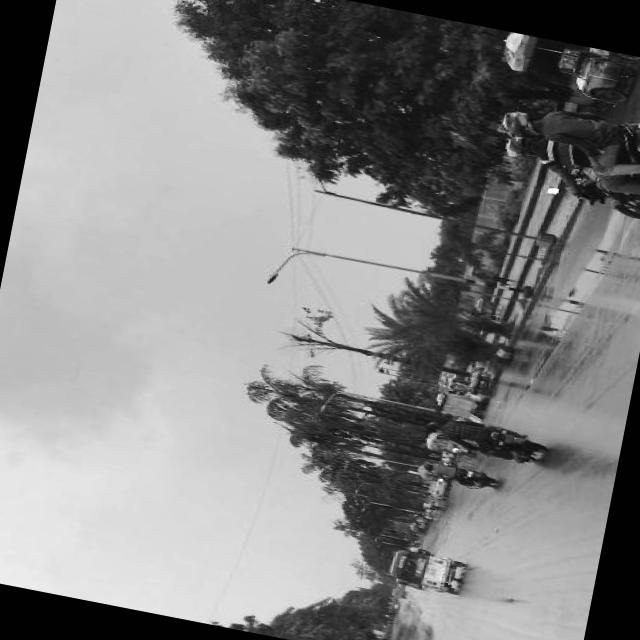car: (424, 478, 449, 501)
motorcycle: (483, 88, 640, 223), (424, 412, 550, 462), (388, 546, 467, 594), (422, 460, 500, 491), (428, 437, 477, 462), (402, 543, 433, 555), (392, 576, 423, 588)
truck: (392, 587, 405, 597)
